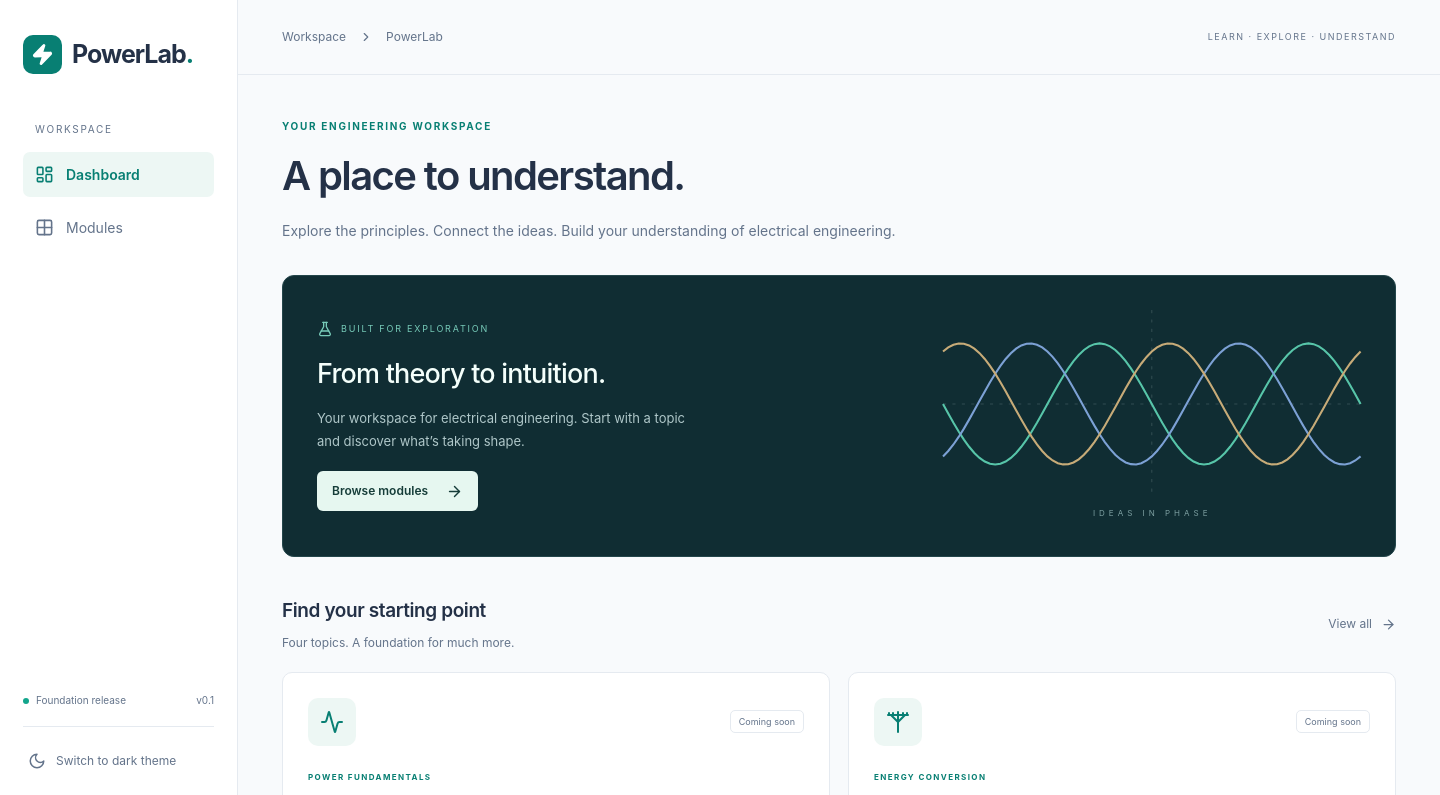
Scenario: workspace › navigates from the dashboard to a module and back
This screenshot has width=1440, height=795.
Click the link "Browse modules" at (398, 491), box [317,471,478,511]
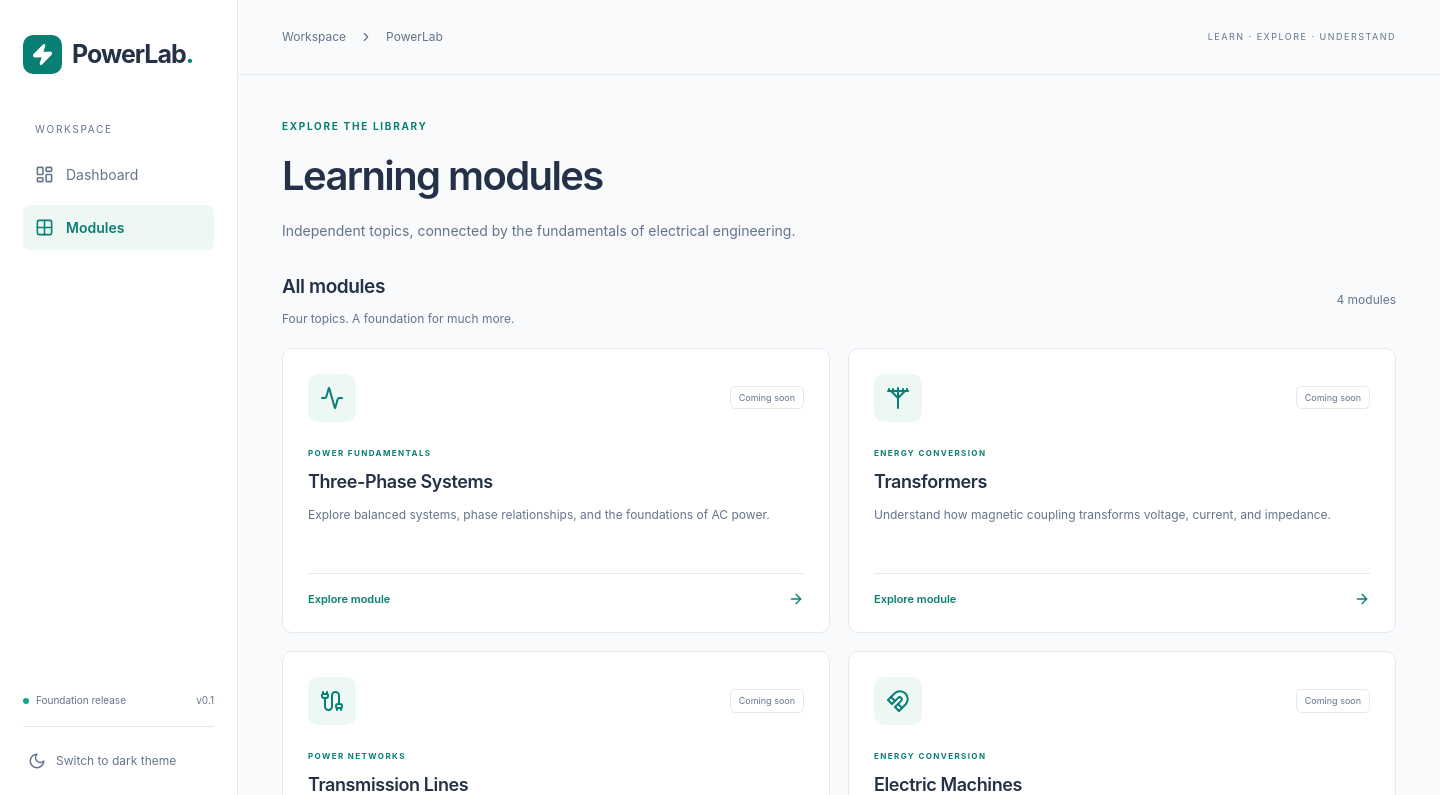
Now the heading "Learning modules" is shown, box [282,151,603,200]
Click the link "Three-Phase Systems" at (556, 490), box [282,348,830,633]
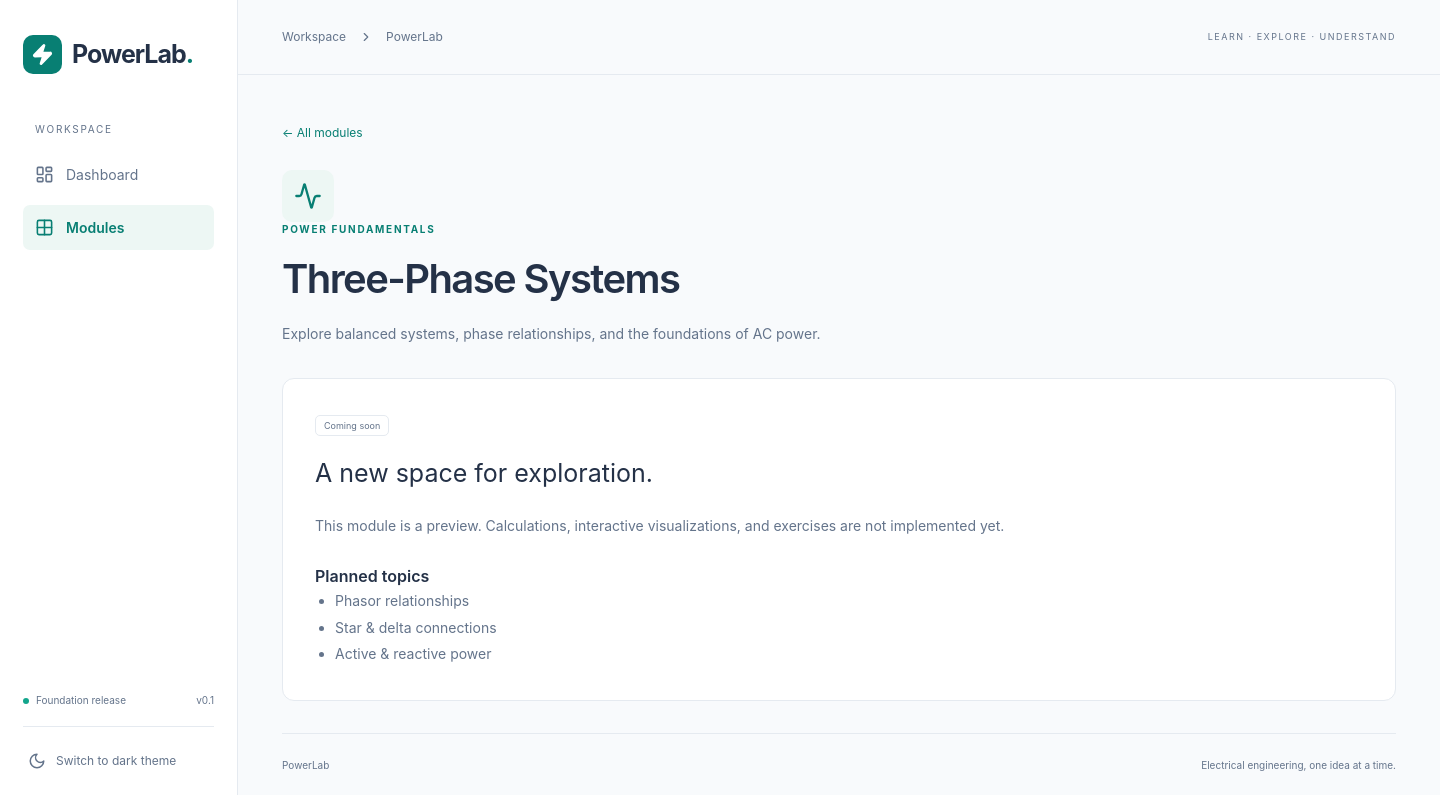
Now the heading "Three-Phase Systems" is shown, box [282,254,679,303]
Now the text "not implemented yet" is shown, box [315,517,1004,534]
Click the link "← All modules" at (322, 133), box [282,124,363,142]
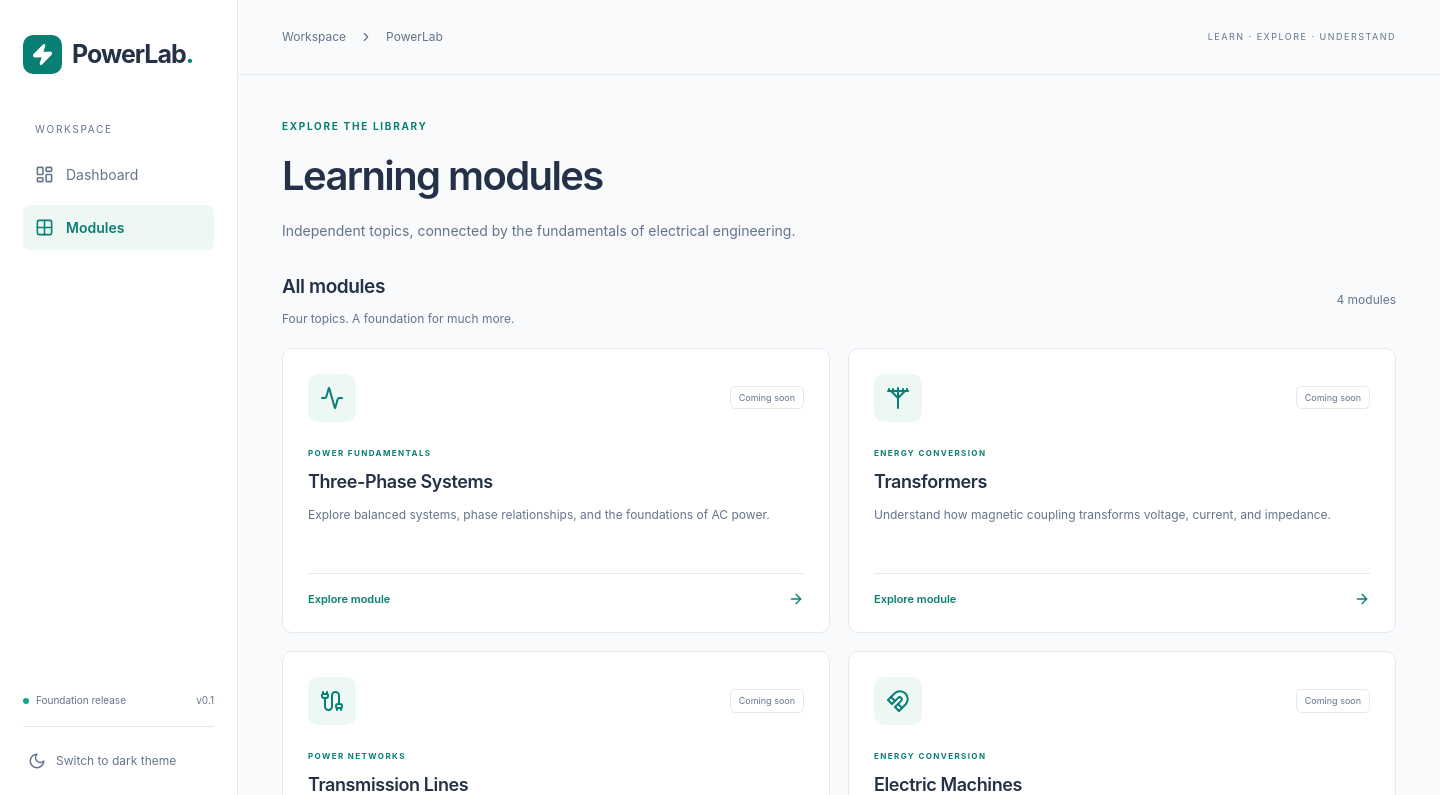
Now the heading "Learning modules" is shown, box [282,151,603,200]
